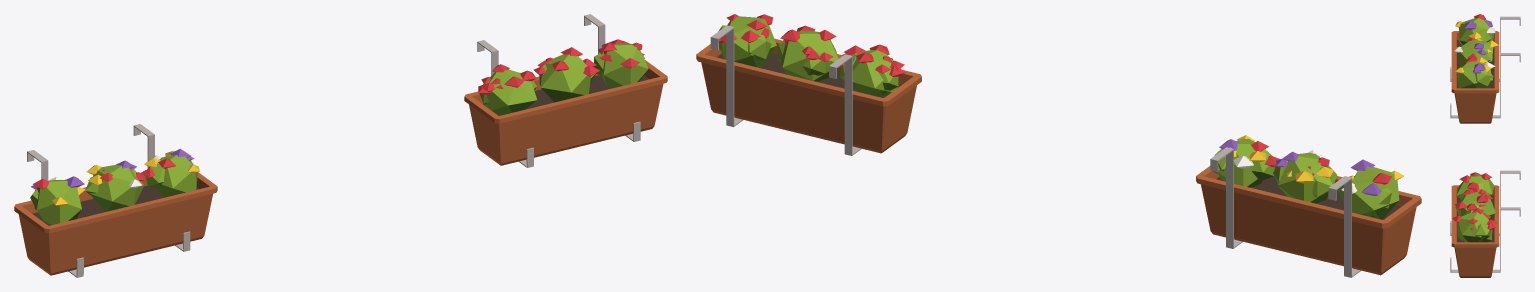
Rendered from SM_Fixture_RailPlanterShort25620_Box_Flower_01.gltf.
The picture shows the model from 3 angles, left to right: view 1: azimuth 30°, elevation 25°; view 2: azimuth 150°, elevation 25°; view 3: azimuth 270°, elevation 25°; orthographic projection. The views are drawn at different scales.
Parts seen in each view (by area): view 1: SM_Fixture_RailPlanterShort25620_Box_Flower_01; view 2: SM_Fixture_RailPlanterShort25620_Box_Flower_01; view 3: SM_Fixture_RailPlanterShort25620_Box_Flower_01.
Part boxes in pixels (bbox=[...]): SM_Fixture_RailPlanterShort25620_Box_Flower_01: bbox=[14, 14, 667, 277]; SM_Fixture_RailPlanterShort25620_Box_Flower_01: bbox=[696, 14, 1421, 277]; SM_Fixture_RailPlanterShort25620_Box_Flower_01: bbox=[1450, 14, 1520, 277].
Size of the model in its own units: 2.34 by 0.3225 by 0.3265.
Materials: 1 (1 with a texture image).
